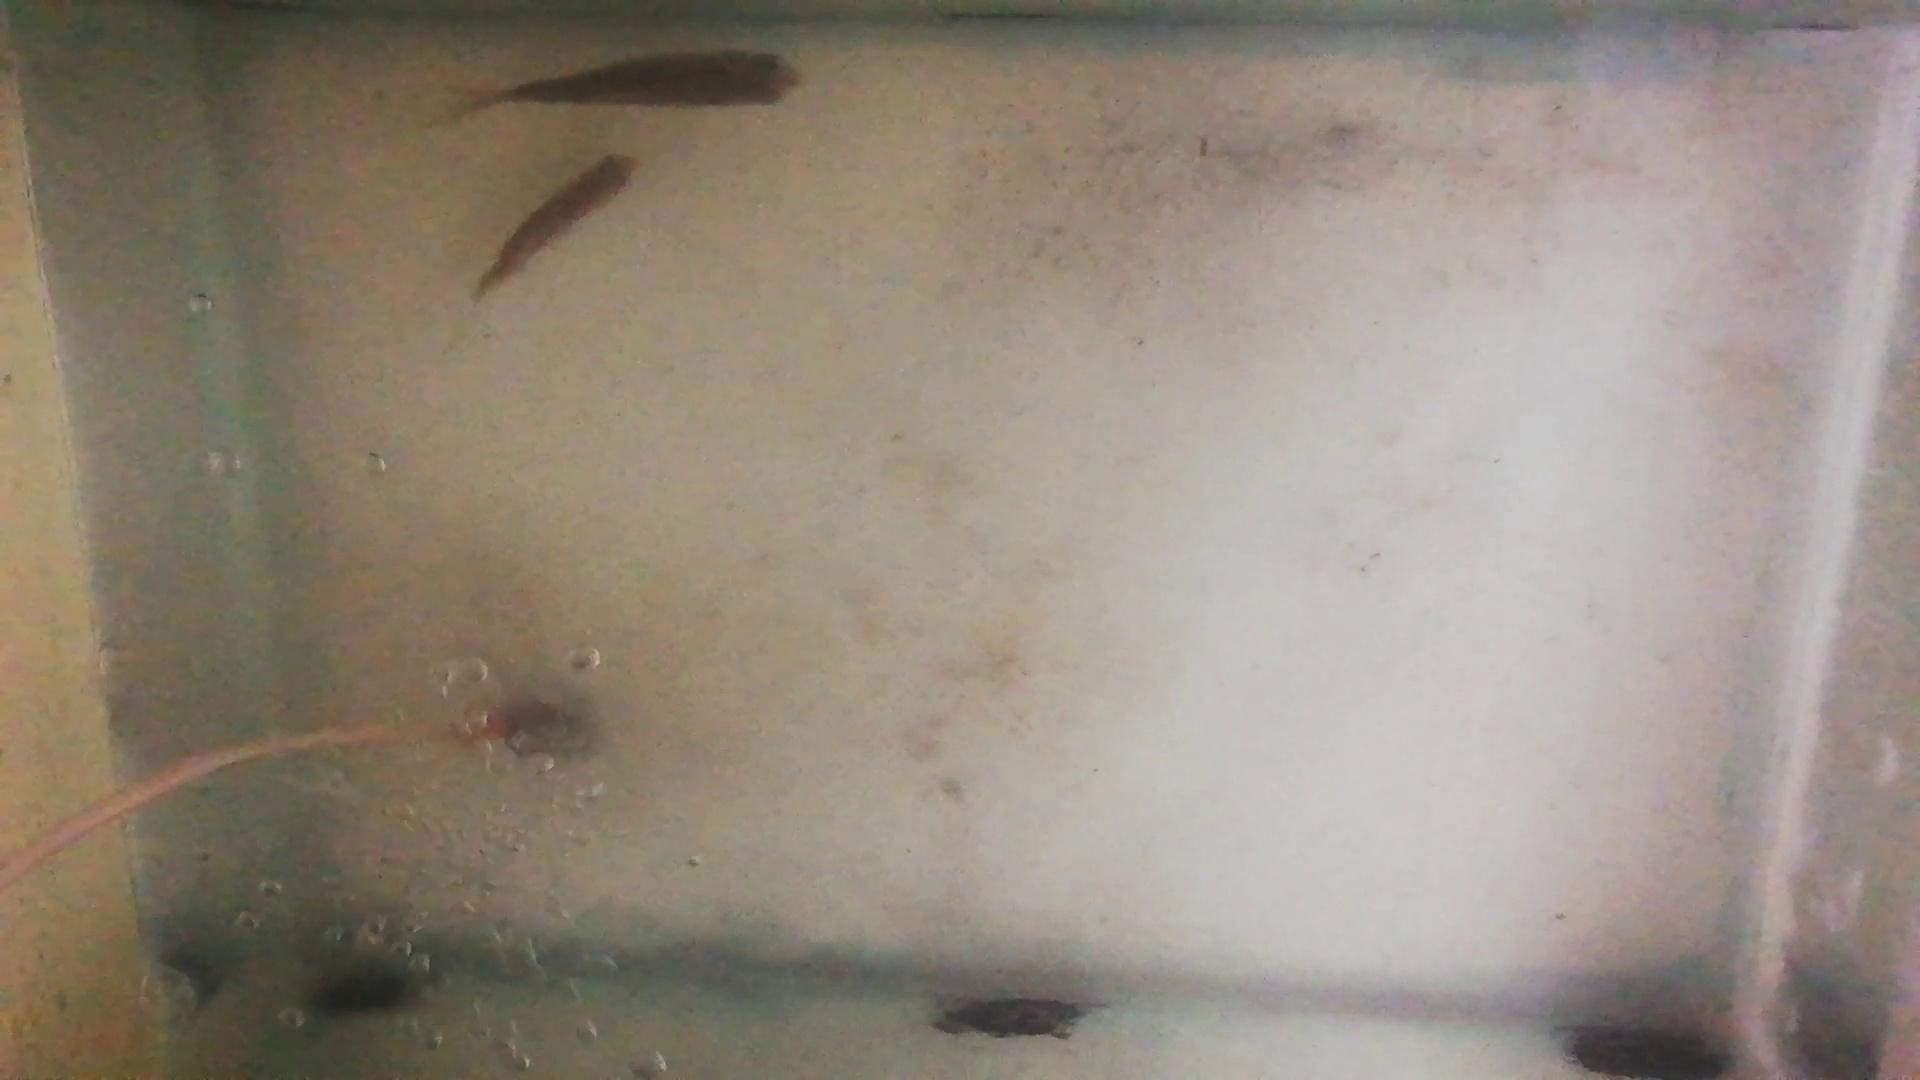fish: (465, 153, 642, 298), (505, 47, 803, 111)
